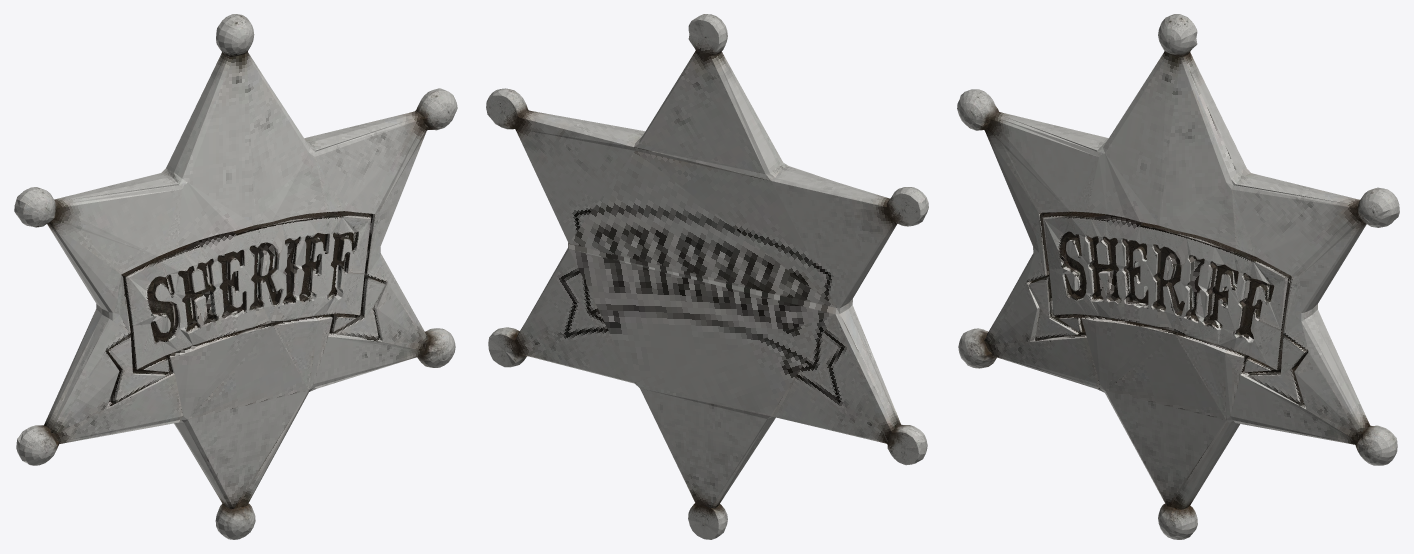
Rendered from ewm_sheriffstar.glb.
3 views of the same model, side by side, from view 1: azimuth 30°, elevation 25°; view 2: azimuth 150°, elevation 25°; view 3: azimuth 330°, elevation 25° (orthographic).
Visible parts, largest first — view 1: ewm_sheriffstar; view 2: ewm_sheriffstar; view 3: ewm_sheriffstar.
Part boxes in pixels (x1,y1,x2,y2): ewm_sheriffstar: (14,14,457,539); ewm_sheriffstar: (486,14,928,539); ewm_sheriffstar: (957,14,1399,539).
Bounding box in the file's own units: 0.0745 × 0.085 × 0.00759.
Materials: 1 (1 with a texture image).
